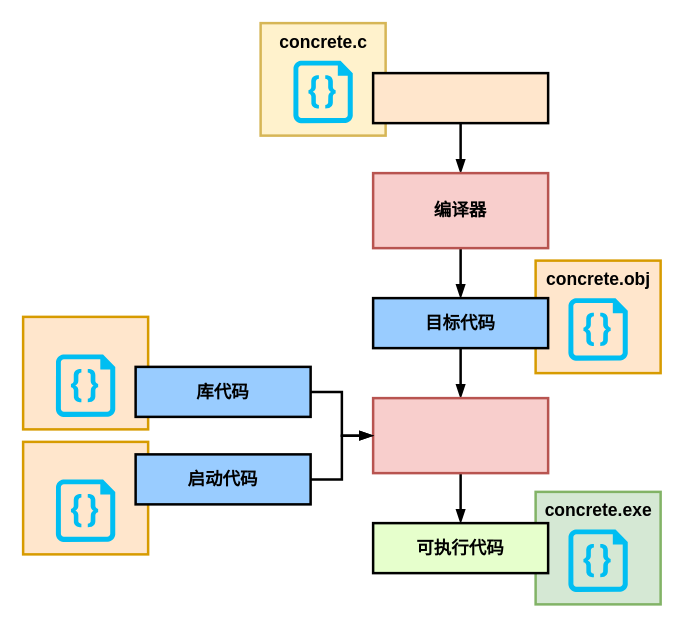
The diagram is 683 pixels wide and 626 high, and some of its shapes have lost their labels. Here are the shapes that lost their labels. From the top down, the centre of each, then its label:
pixel 460 97: 源代码
pixel 460 435: 链接器
